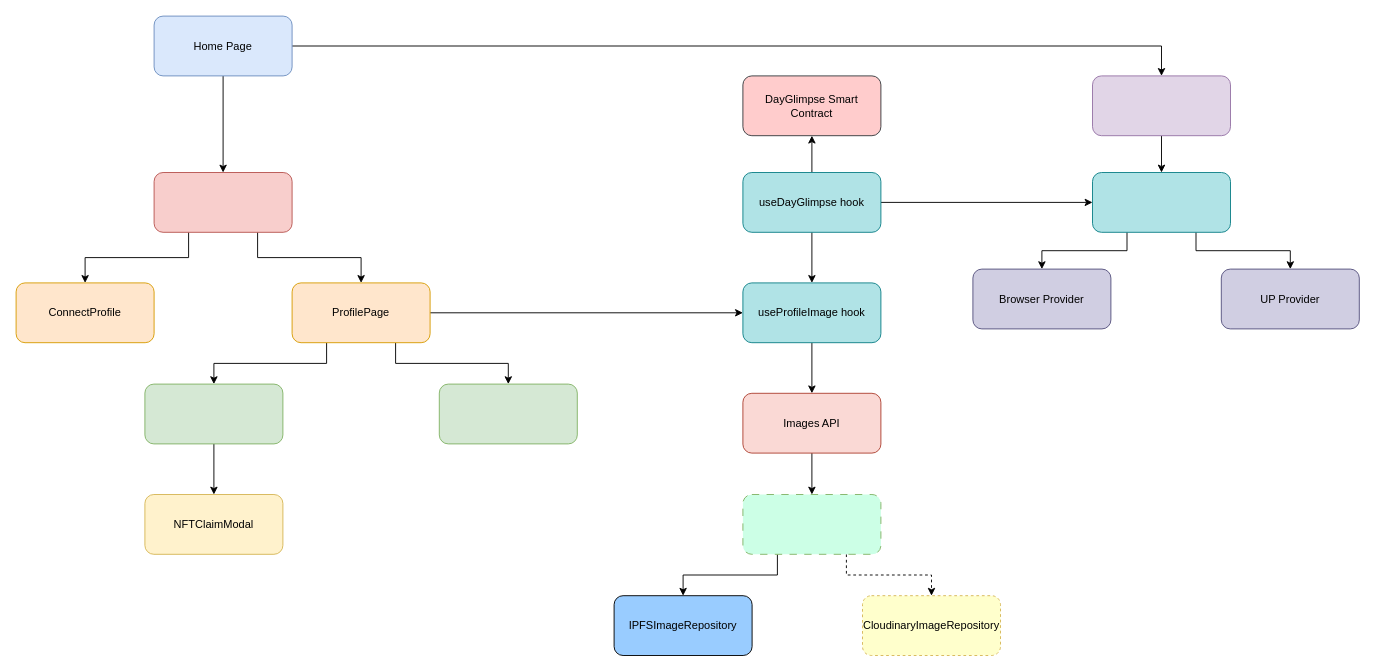
Some shapes in this 1375 by 672 pixel diagram are drawn without their labels. Each missing label, with the centre of its shape:
"AppLayout" belongs at [222,202].
"ClaimNFTButton" belongs at [213,413].
"IImageRepository" belongs at [811,524].
"ImageUploader" belongs at [507,413].
"ProfileContext" belongs at [1161,105].
"useProfile hook" belongs at [1161,202].
